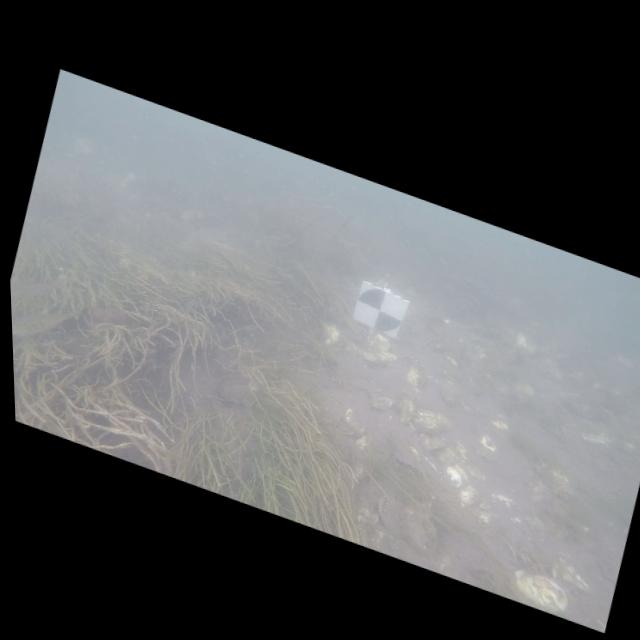Oyster-Closed: (396, 500, 438, 557), (514, 570, 567, 612), (412, 411, 450, 434), (398, 395, 416, 425), (345, 408, 364, 435), (367, 334, 389, 353), (372, 395, 394, 409)
Oyster-Indeterminate: (474, 435, 495, 460), (406, 363, 423, 389), (434, 445, 455, 466), (458, 486, 475, 506), (474, 502, 490, 523), (446, 466, 462, 487), (491, 493, 513, 507), (324, 324, 339, 344), (422, 437, 444, 450), (355, 435, 368, 449)
Oyster-Open: (389, 445, 423, 478), (359, 346, 398, 369), (375, 491, 391, 530), (419, 375, 430, 389)
